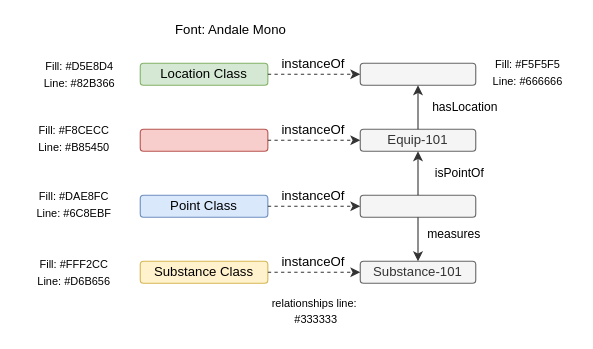
The diagram is 593 pixels wide and 349 high, and some of its shapes have lost their labels. The centre of each missing label's shape, as x and y in pixels:
Equipment Class: the point at 203,139
Loc-101: the point at 417,73
Point-101: the point at 417,205
